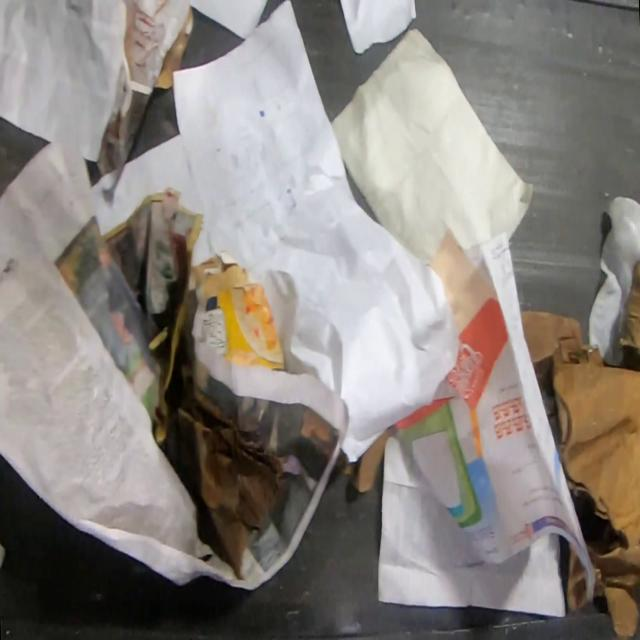cardboard: (520, 263, 640, 640), (187, 249, 289, 372), (338, 423, 396, 493), (153, 4, 195, 89), (565, 542, 588, 612)
soft_plastic: (587, 193, 640, 368)
